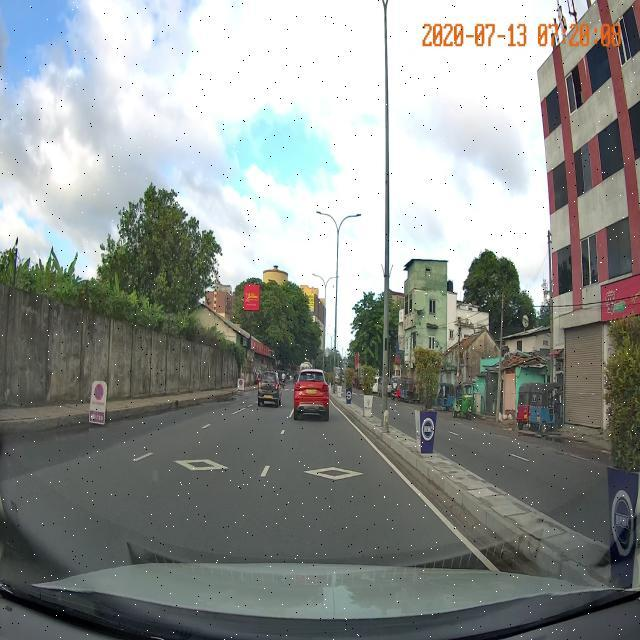diamond: (243, 450, 434, 501)
